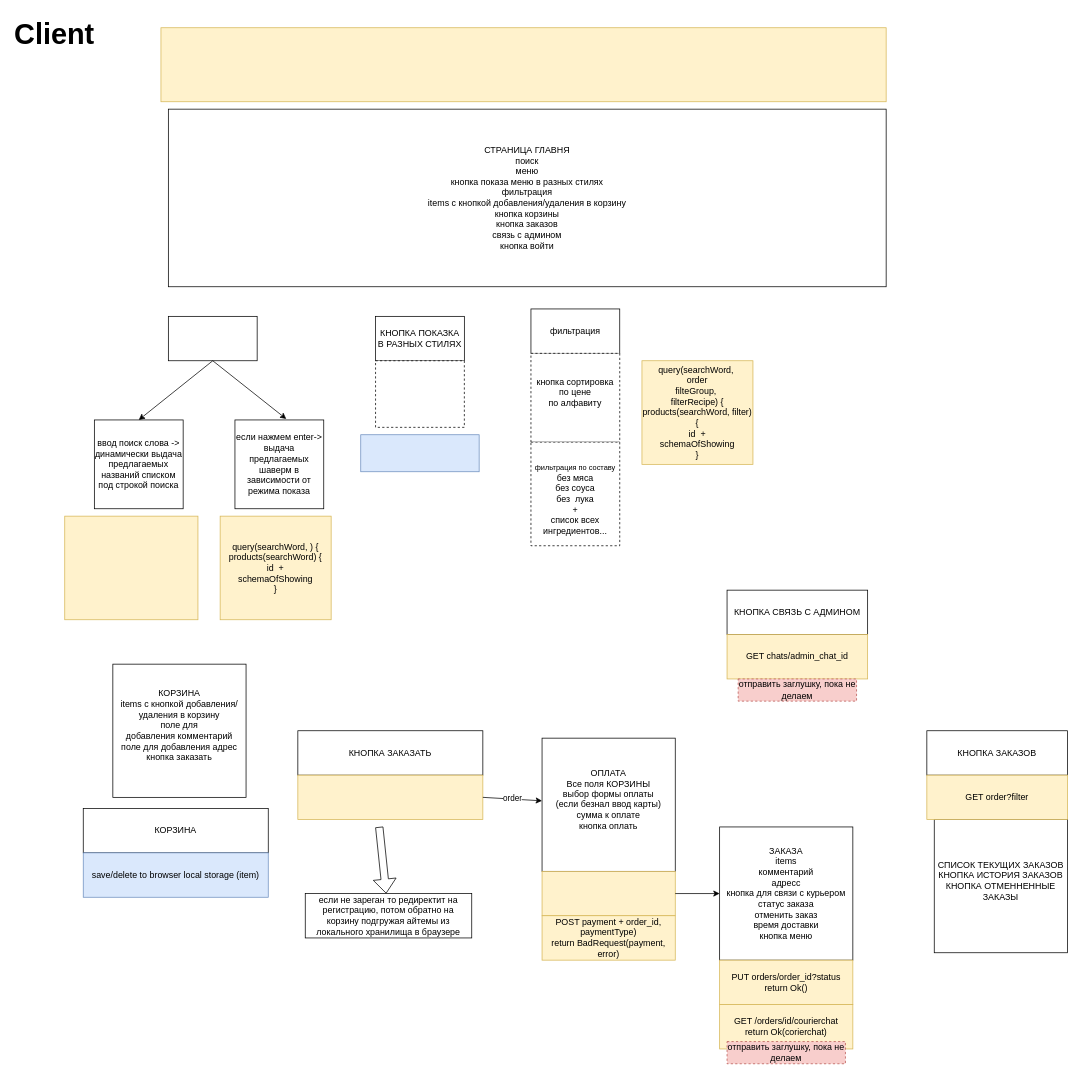
The diagram is 1080 pixels wide and 1077 high, and some of its shapes have lost their labels. Here are the shapes that lost their labels. From the top down, the box of each, then its label:
(160, 27, 886, 102): query("", "", "", "") products( schemaOfShowing )
(168, 316, 257, 361): ПОИСК
(375, 360, 464, 427): только название только название + картинка картинка название состав цена
(360, 434, 479, 472): changeSchemaOfShowing
(64, 515, 198, 620): query(searchWord,"", "", "") { product( searchWord ) { id name }
(297, 774, 483, 820): GET /payment(jwtToken. items_id, prices, comment. address) return payment
(541, 871, 675, 916): POST payment/order_id + payload(card) paymentType return Ok(order)
